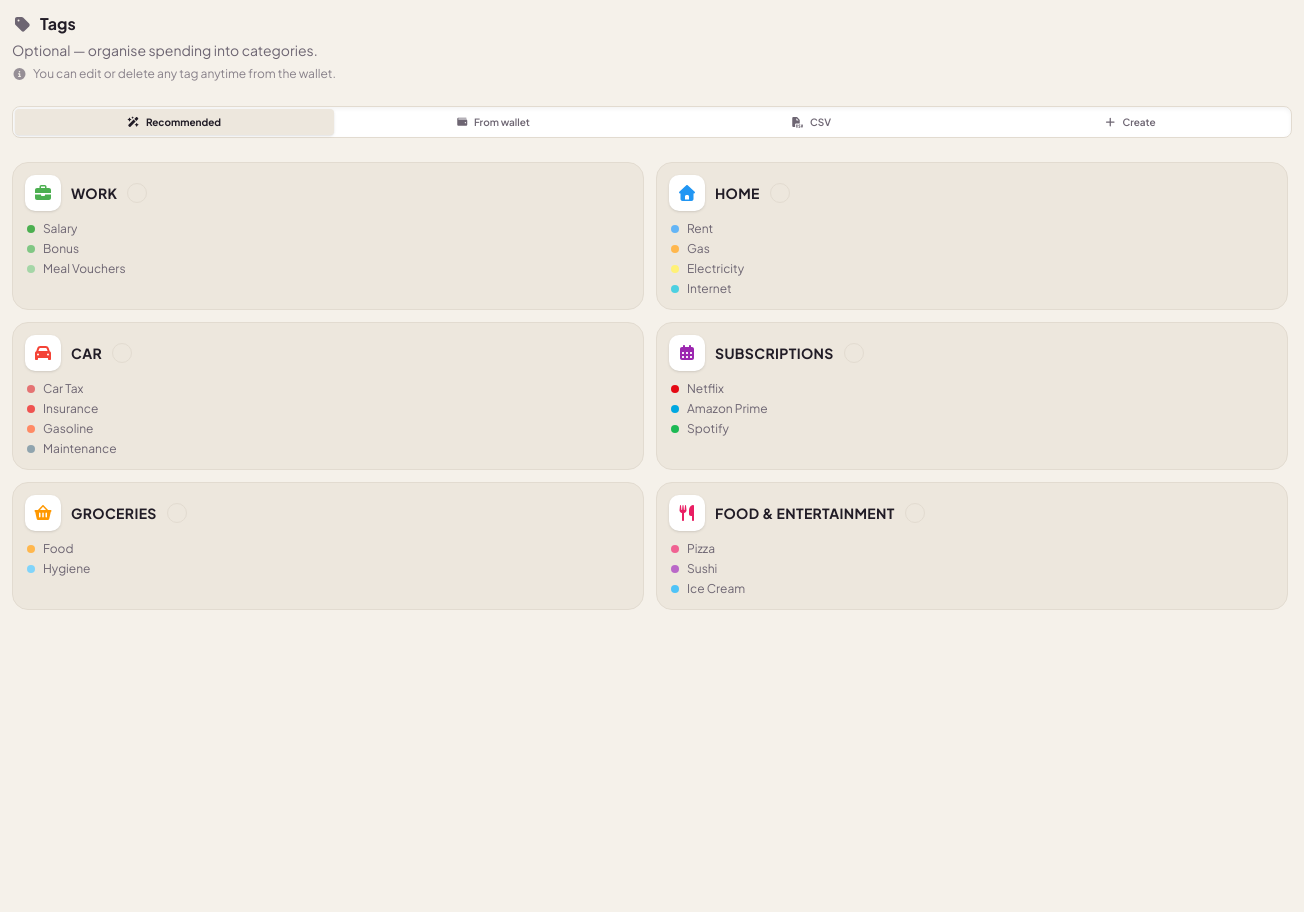
it: TagsStep — recommended categories › striking a child excludes it and marks the category partial (mixed)
Click the button with aria-label "select the work category": click(43, 193) [12,162,644,310]
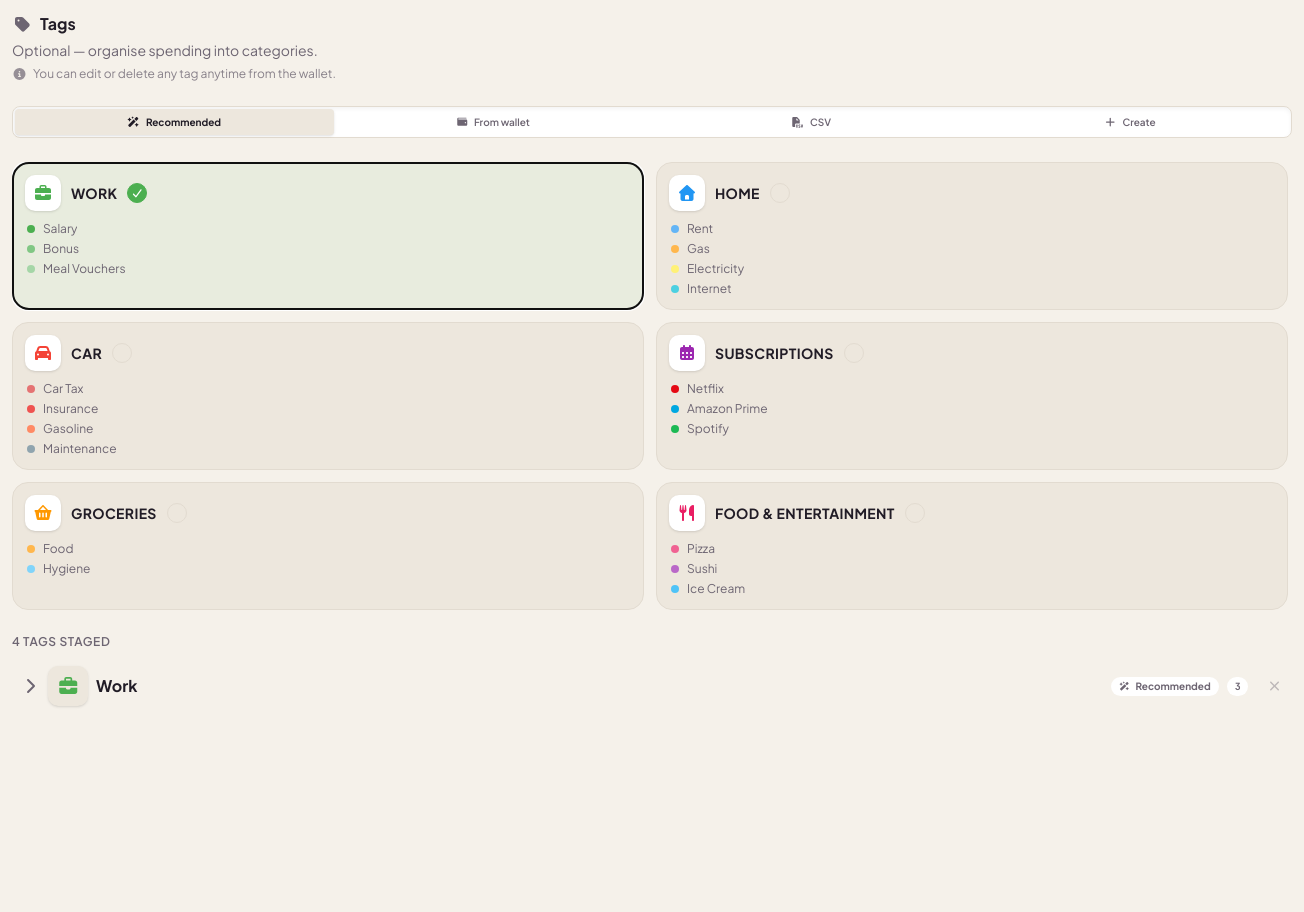
Click the button with aria-label "expand work": click(68, 686) [12,658,1256,714]
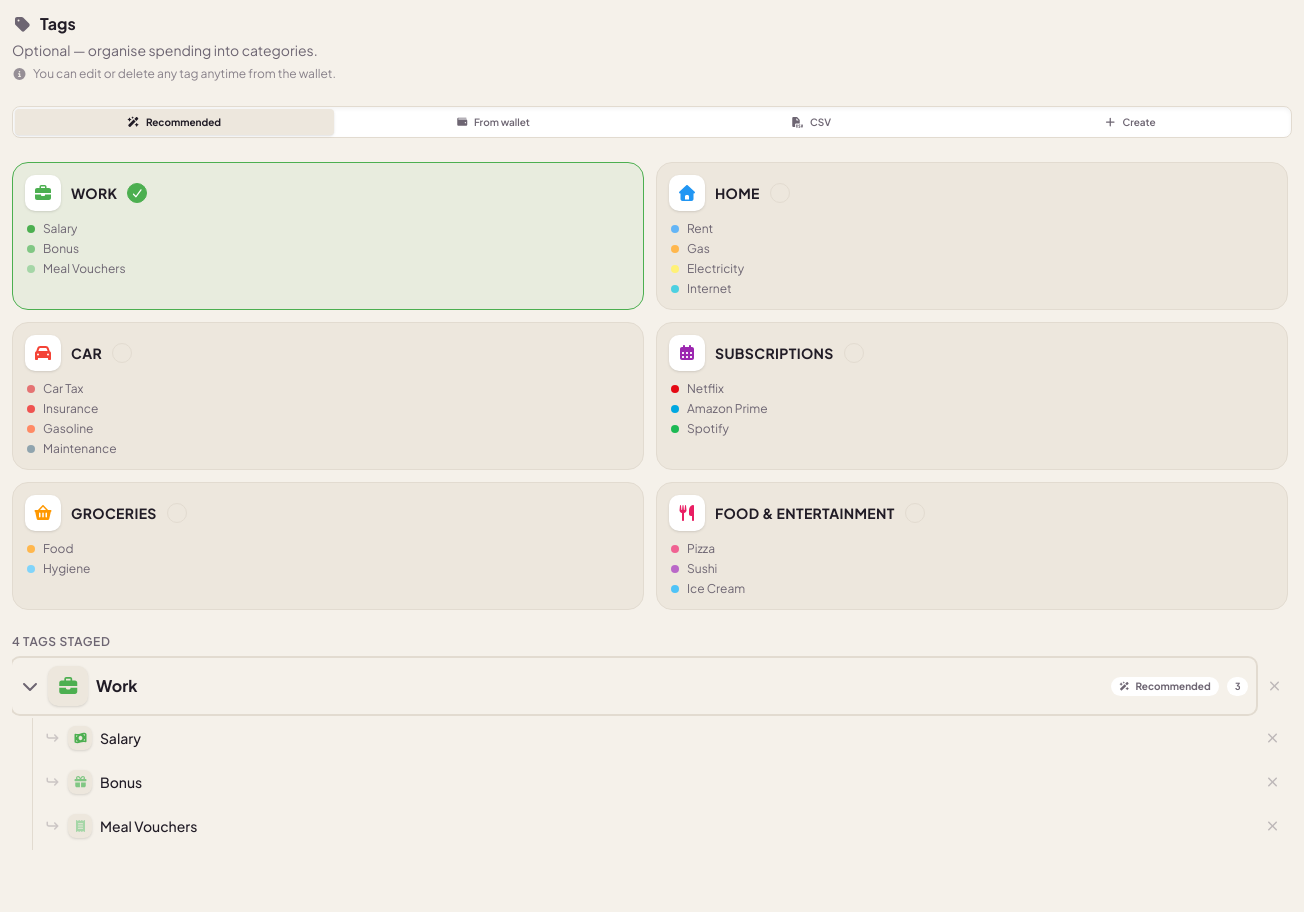
Click the button named "remove bonus": click(1272, 782) [1260,770,1284,794]
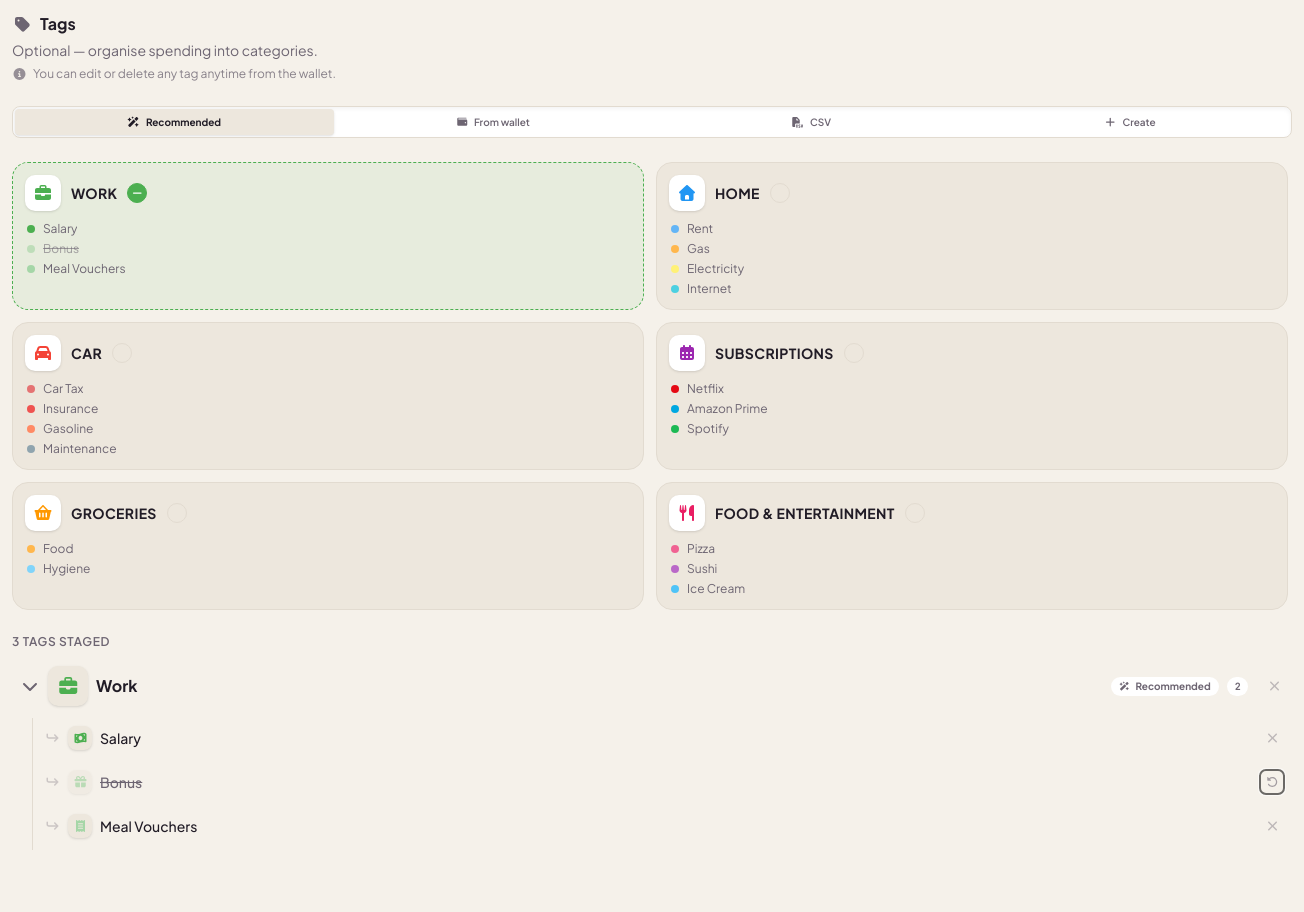
Check: the button named "restore bonus" is shown, box [1260,770,1284,794]
